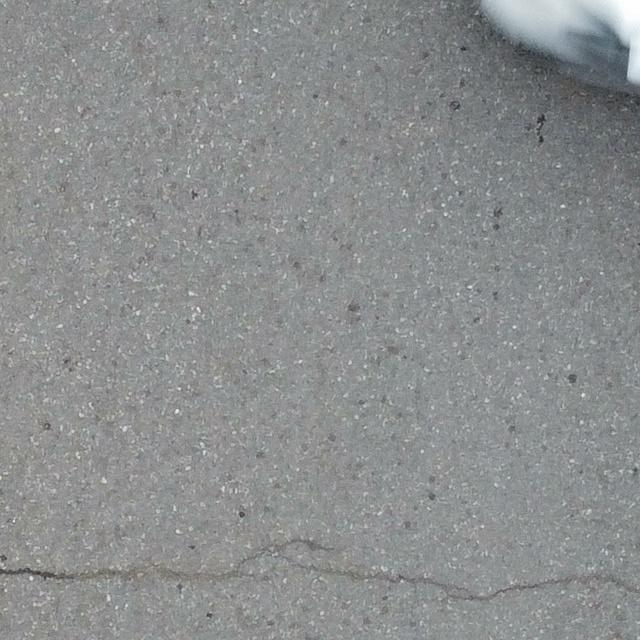TransverseCrack: (1, 538, 640, 602)
